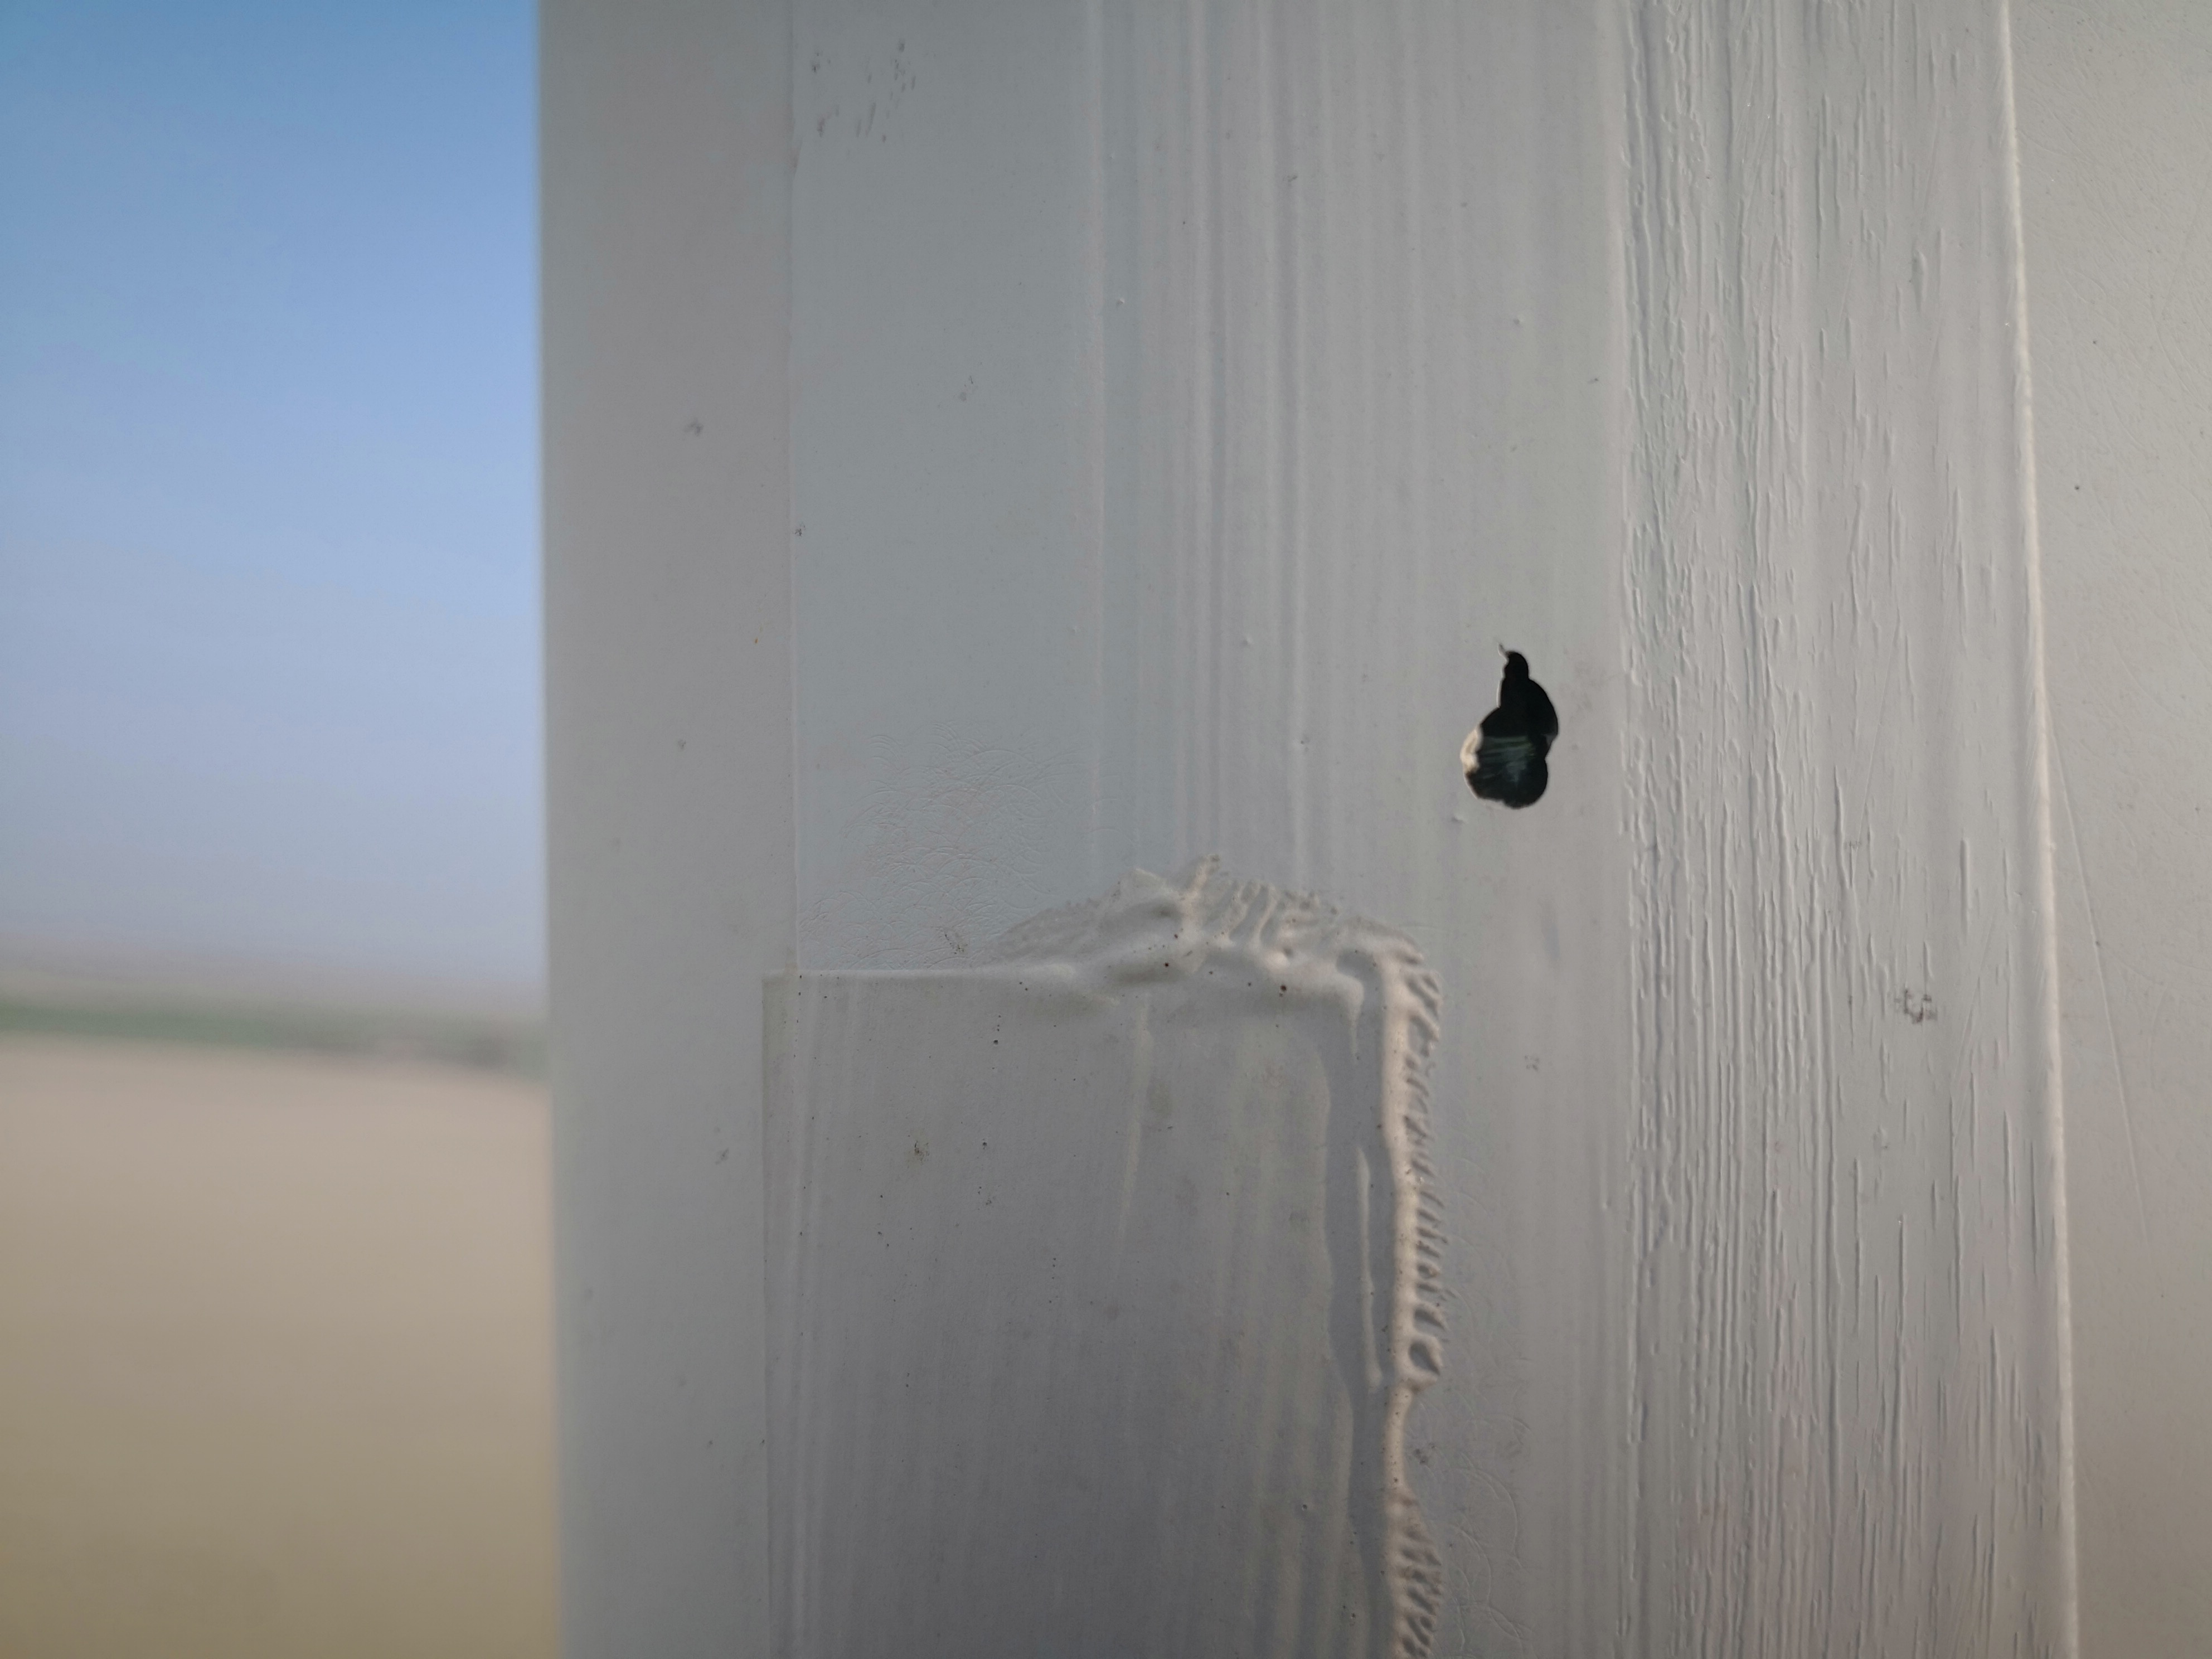SD: (965, 861, 1454, 1056), (1348, 1042, 1456, 1654), (1426, 627, 1592, 821)
